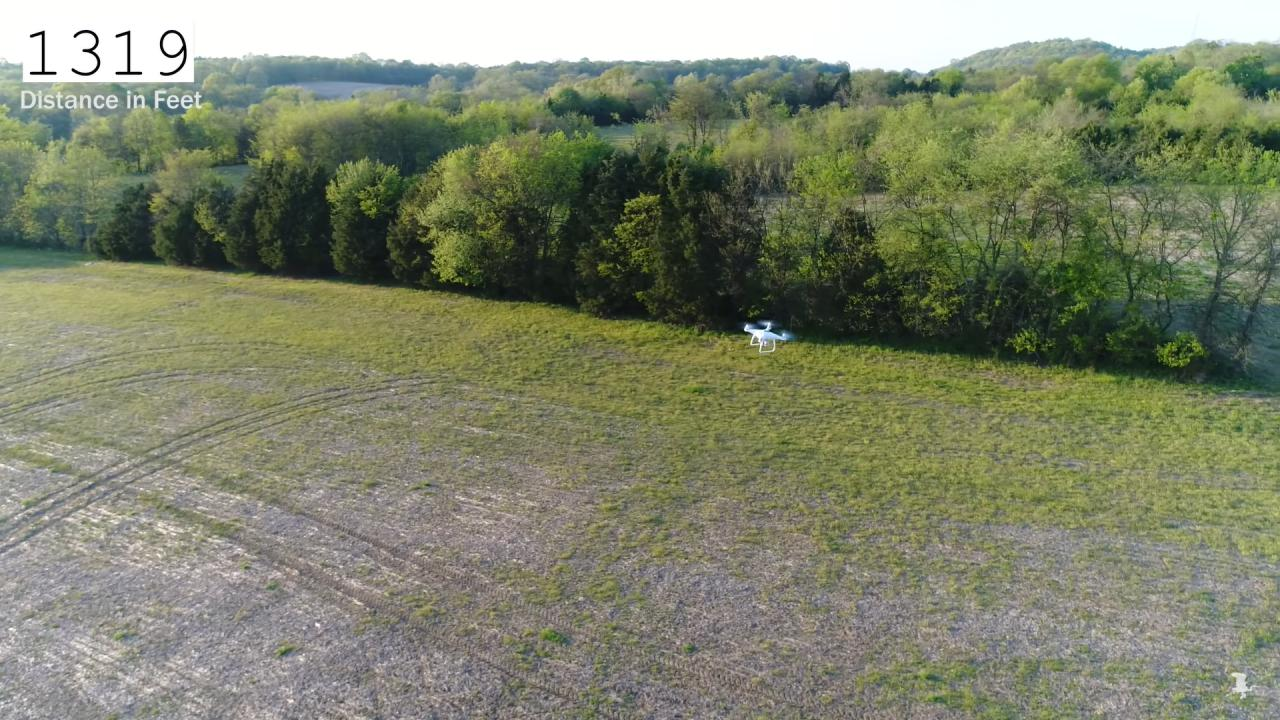Drone: (734, 312, 802, 360)
